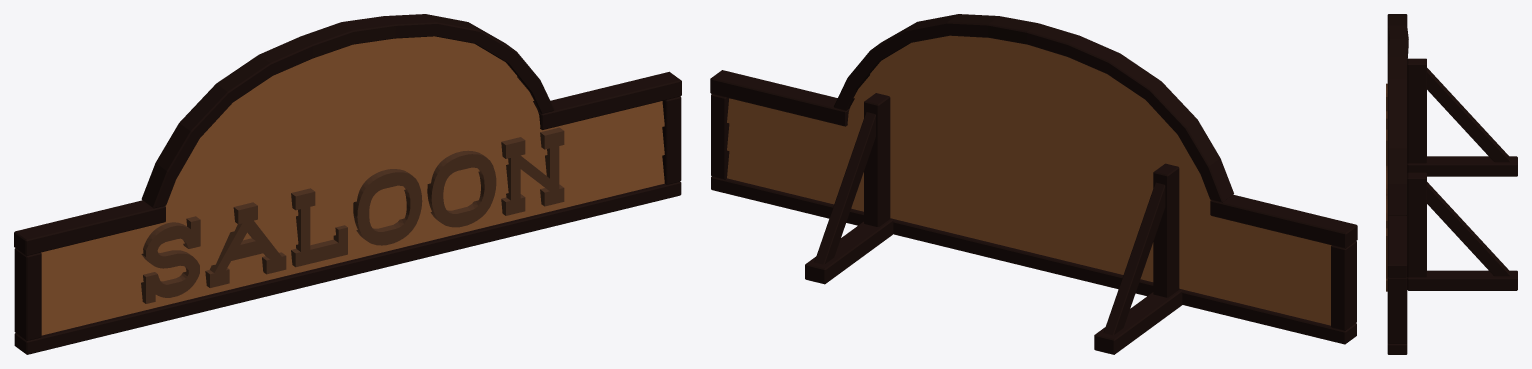
Rendered from ww_saloon_sign_b.glb.
The picture shows the model from 3 angles, left to right: view 1: azimuth 30°, elevation 25°; view 2: azimuth 150°, elevation 25°; view 3: azimuth 270°, elevation 25°; orthographic projection. The views are drawn at different scales.
Visible parts, largest first — view 1: Saloon_Sign_B; view 2: Saloon_Sign_B; view 3: Saloon_Sign_B.
Boxes of the visible parts, x1,y1,x2,y2 form: Saloon_Sign_B: (14, 14, 681, 354); Saloon_Sign_B: (710, 14, 1357, 354); Saloon_Sign_B: (1386, 14, 1517, 354).
Size of the model in its own units: 10.56 by 3.75 by 2.34.
